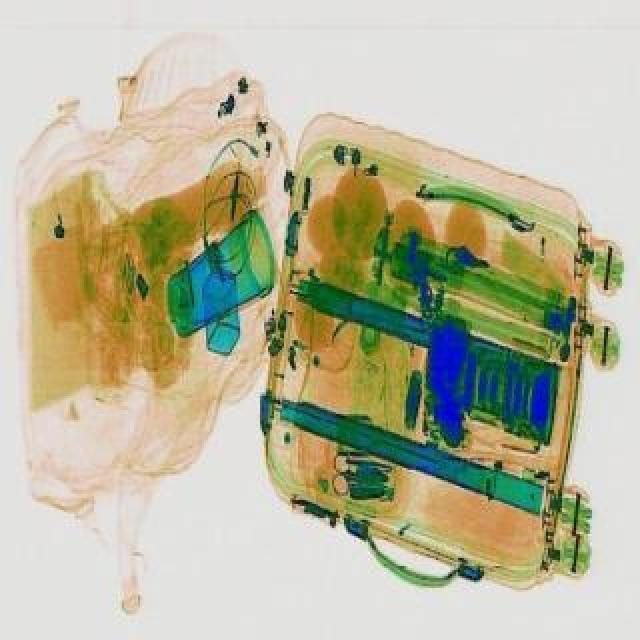pliers: (324, 450, 396, 500)
